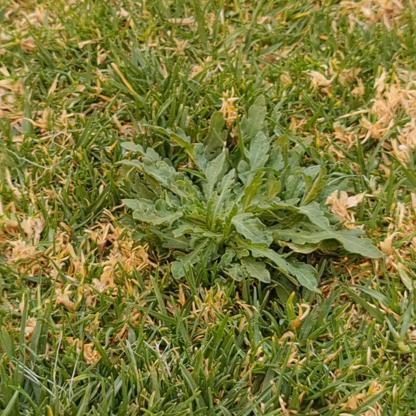Weeds: (117, 94, 384, 296)
